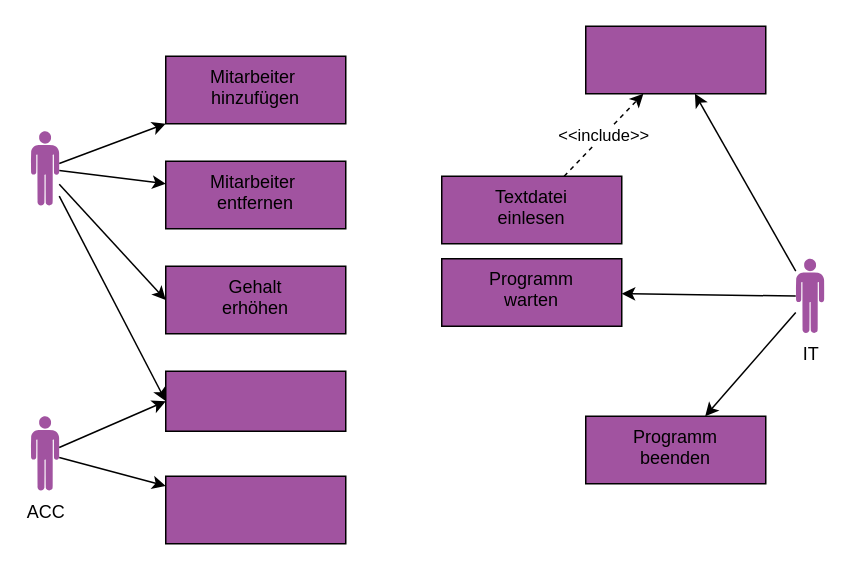
This 851x570 diagram has some shape labels left out. The shapes that lost their labels are listed below. From the top down, each one's centre as x and y in pixels, then its label:
the point at 675,59: Programm starten
the point at 44,168: HR
the point at 255,400: Prämie berechenen
the point at 255,509: Gehälter abrechnen
